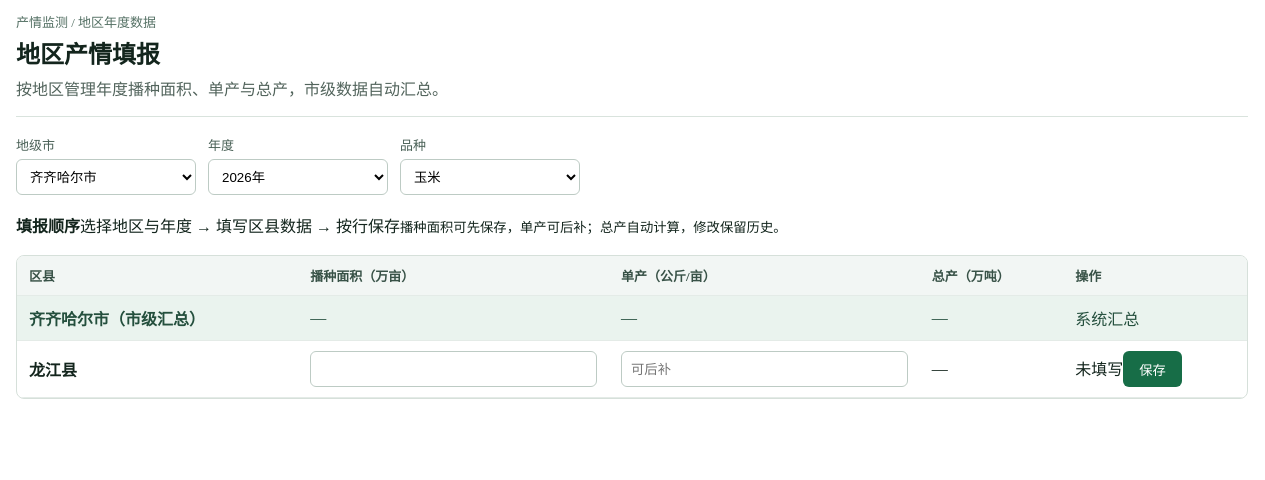
Scenario: RegionalAnnualProductionWorkspace › keeps a successful save truthful when the summary refresh fails
The width and height of the screenshot is (1265, 480).
Expected: the column heading "齐齐哈尔市（市级汇总）" is shown, [17,296,298,340]
Type "1" into the number field named "龙江县播种面积" at (454, 369), box [310,351,597,387]
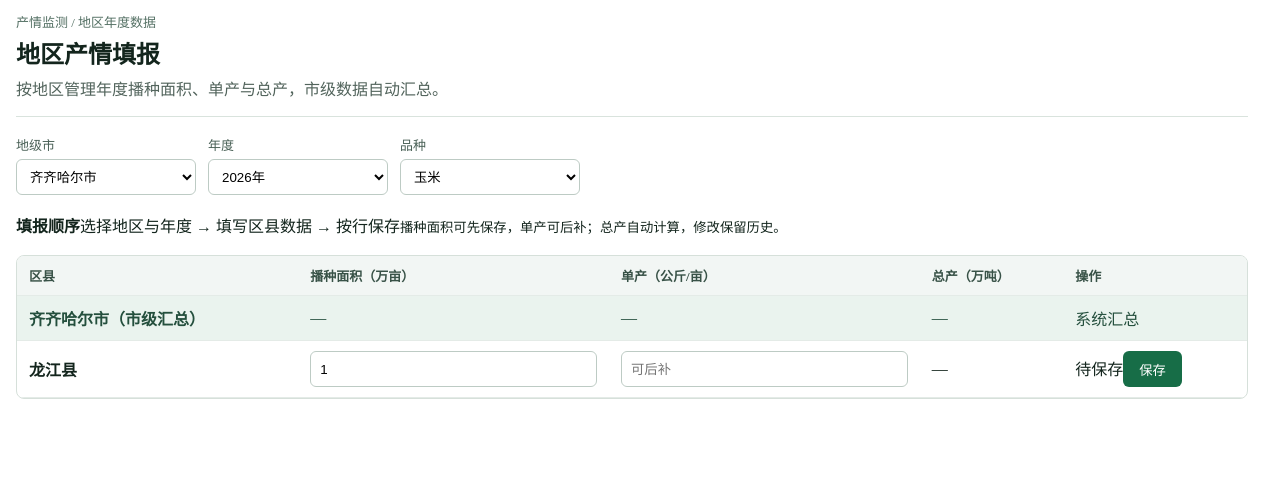
Type "500" into the number field named "龙江县单产" at (764, 369), box [621,351,908,387]
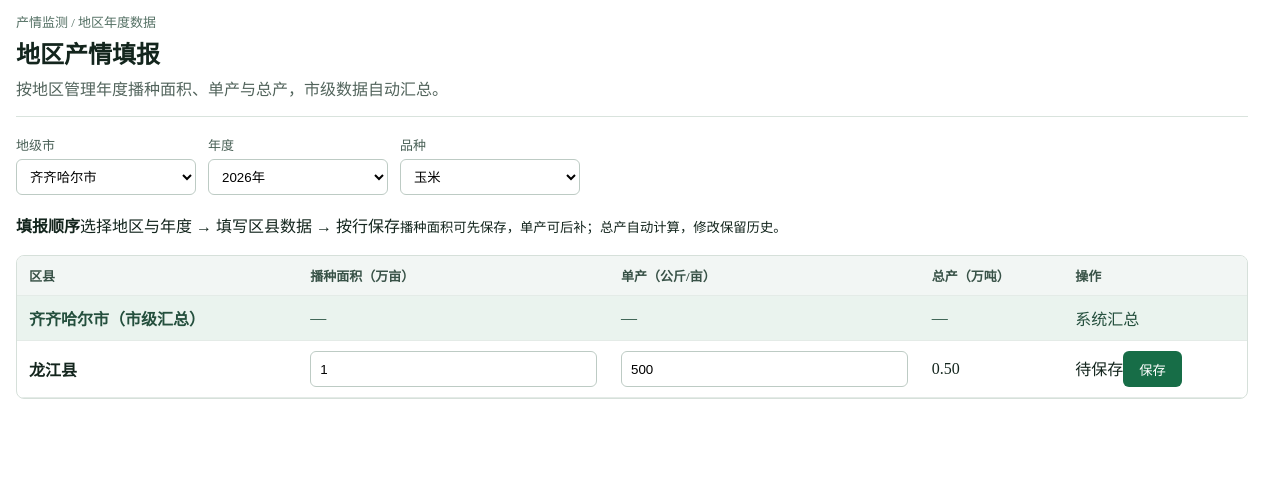
Click the button with aria-label "保存龙江县" at (1153, 369), box [1123,351,1182,387]
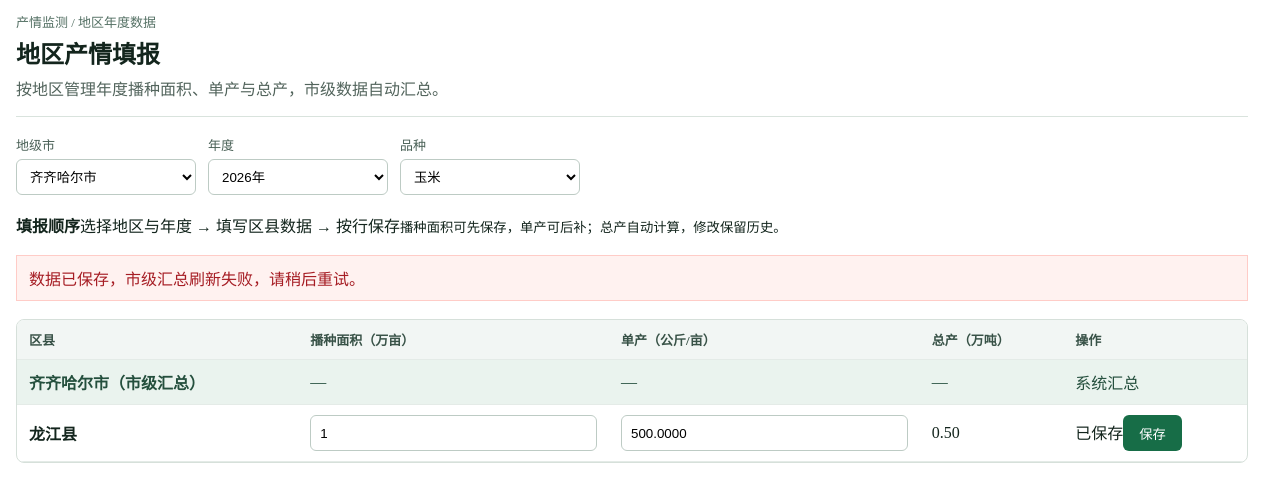
Now the text "已保存" is shown, box [1075,424,1123,442]
Now the message reads "数据已保存，市级汇总刷新失败，请稍后重试。", box [29,271,365,288]
